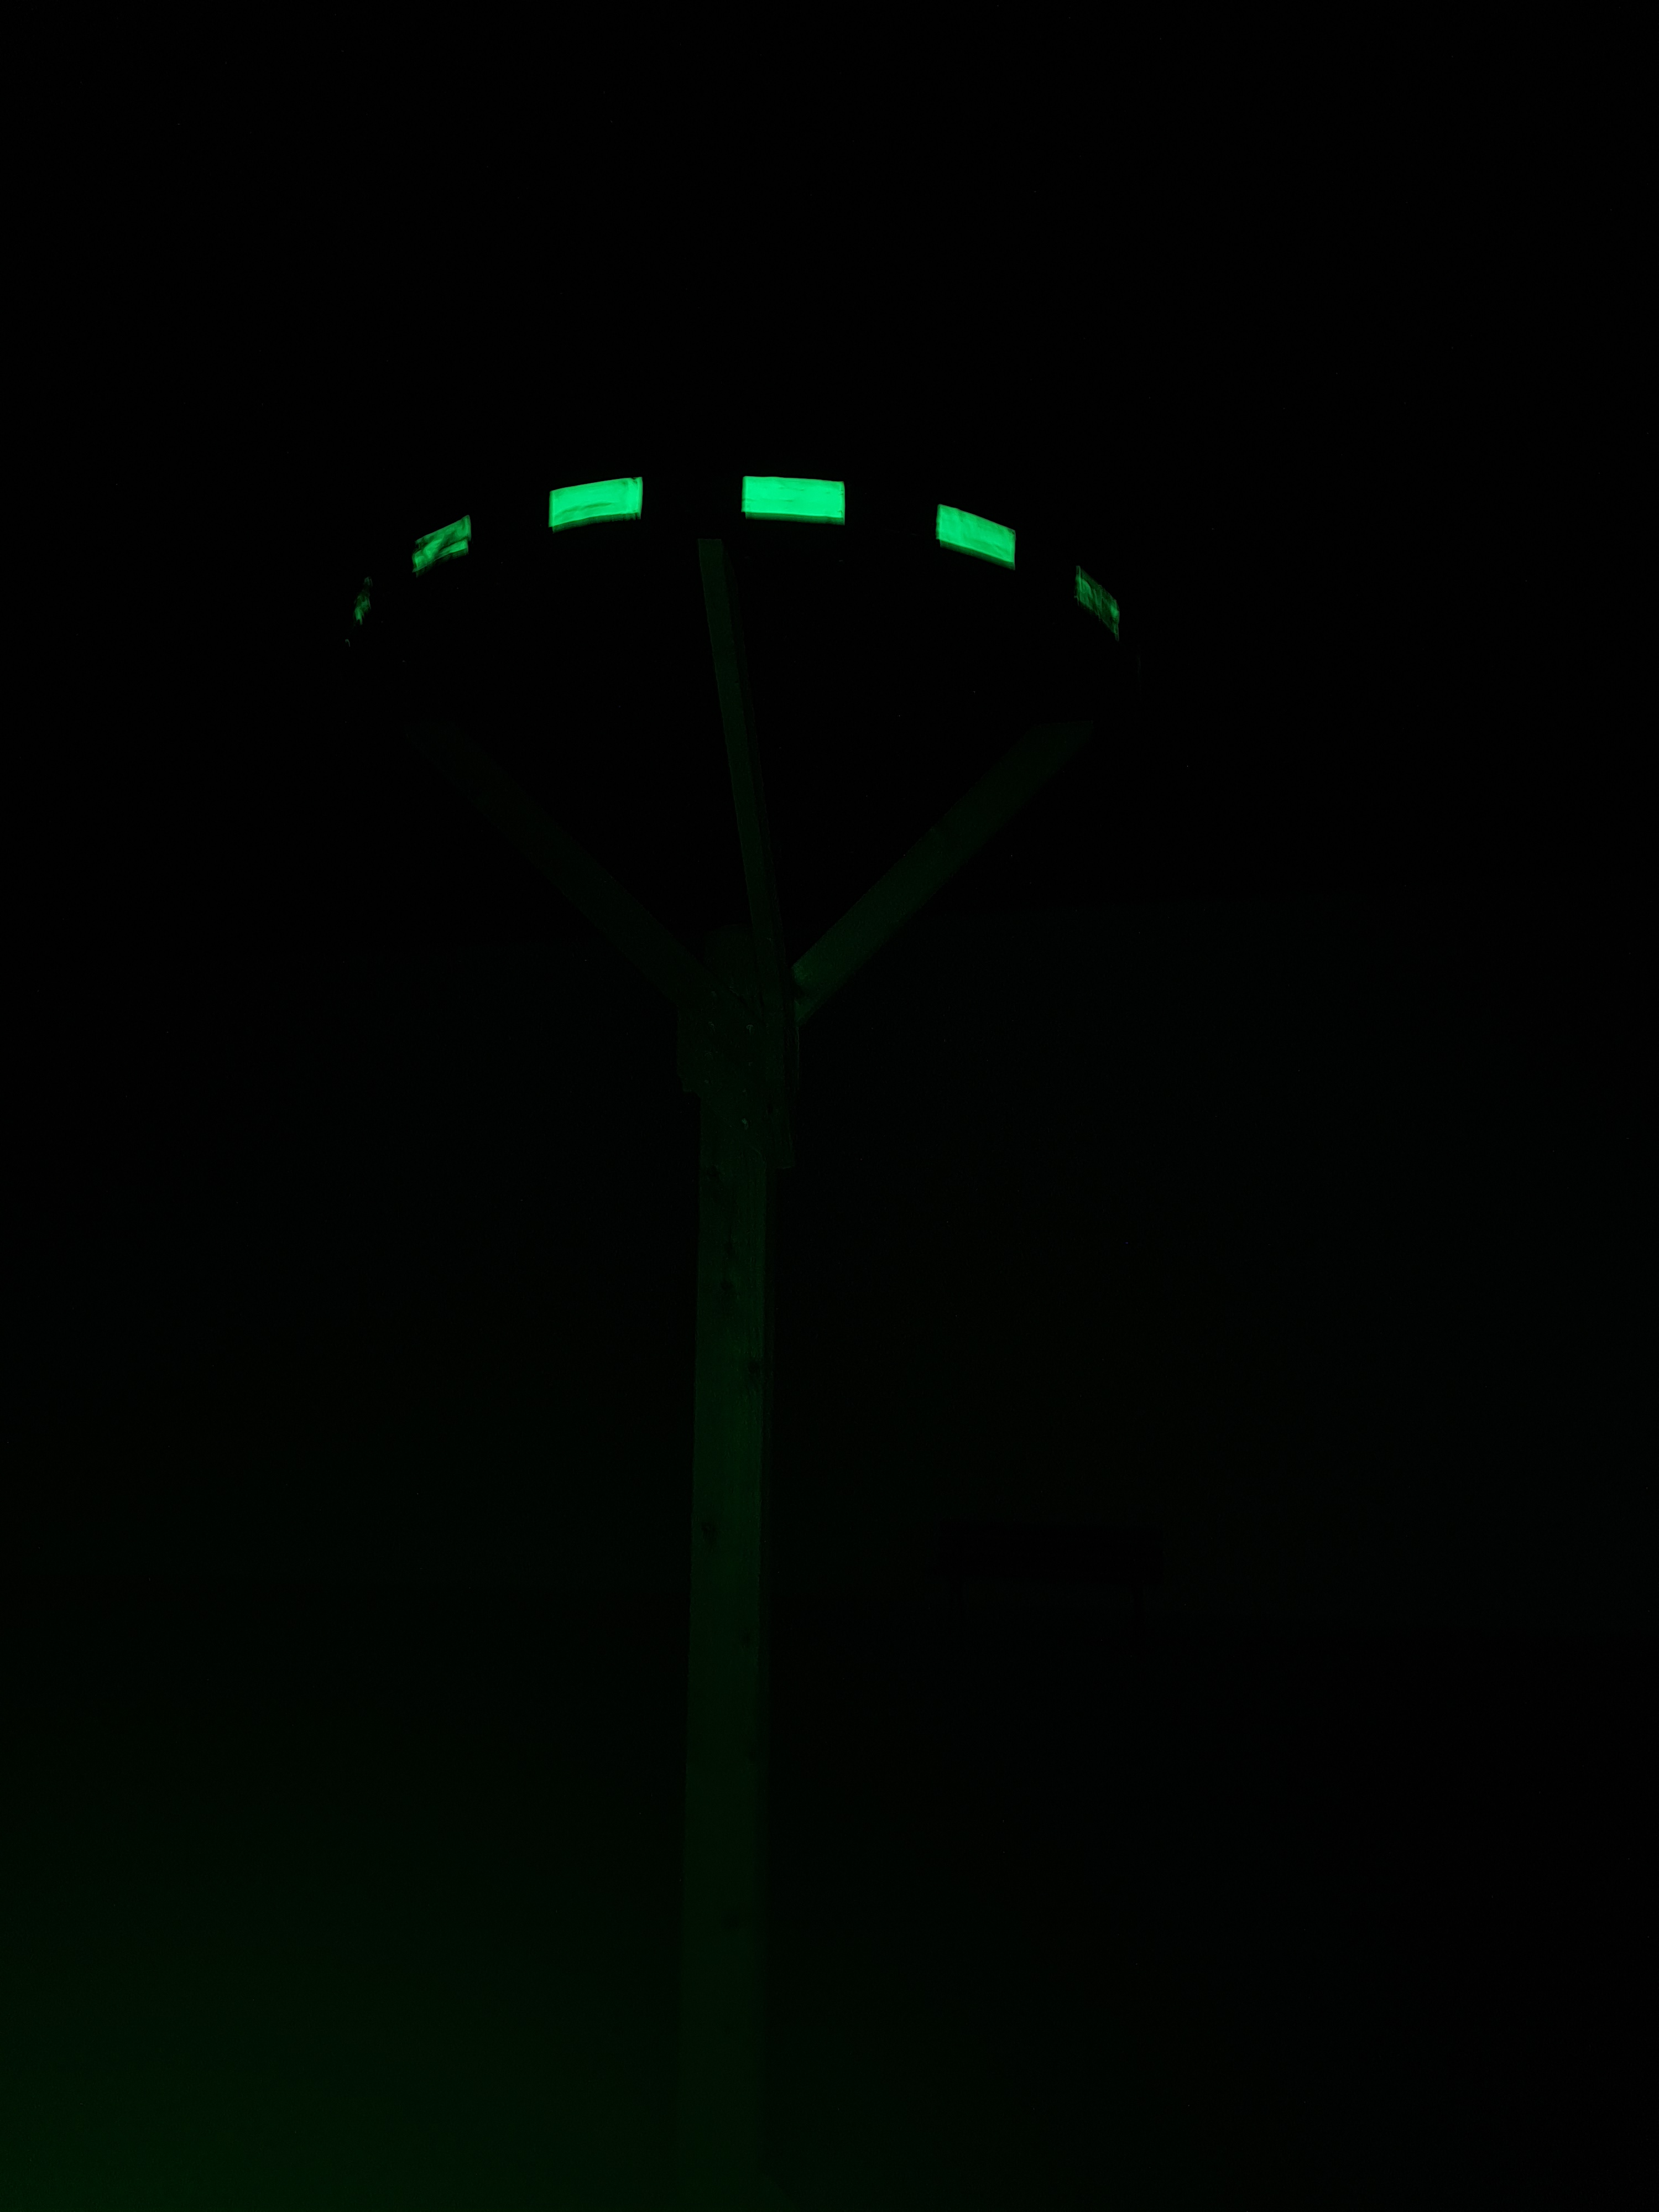hoop: (411, 472, 1122, 634)
